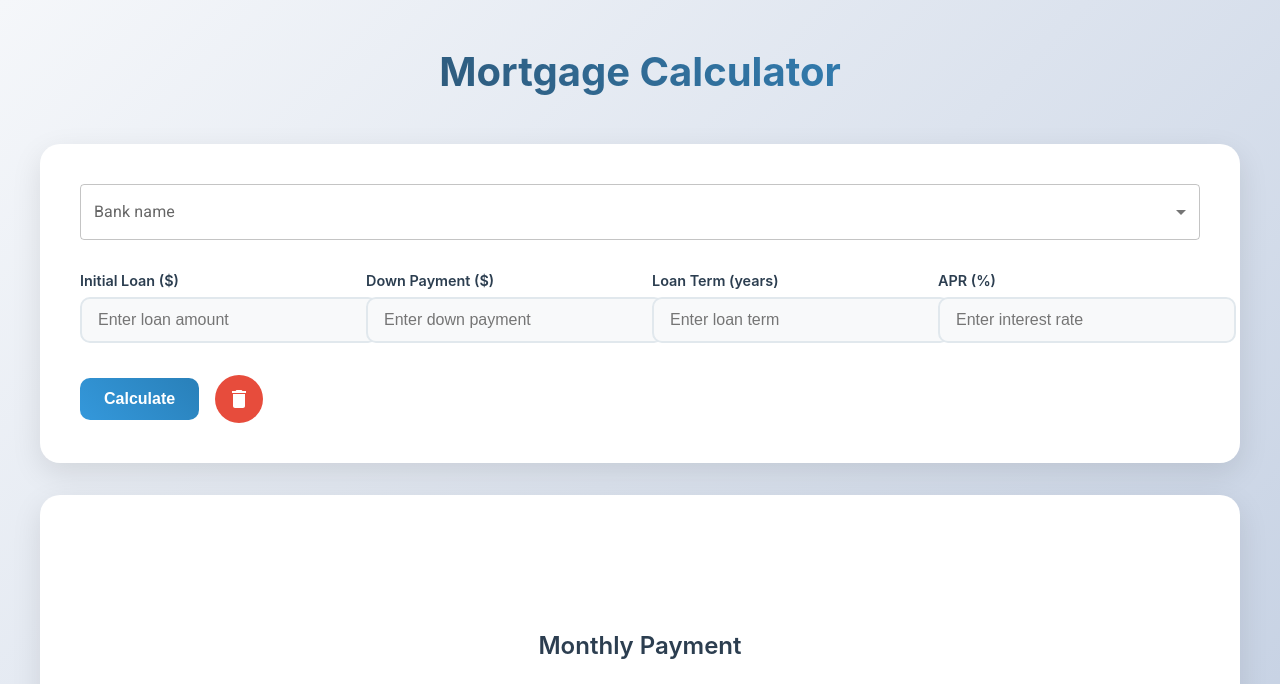
Test: Calc Component › shows validation error for missing required fields
Click the button "Calculate" at x=140, y=399, box [80,378,199,420]
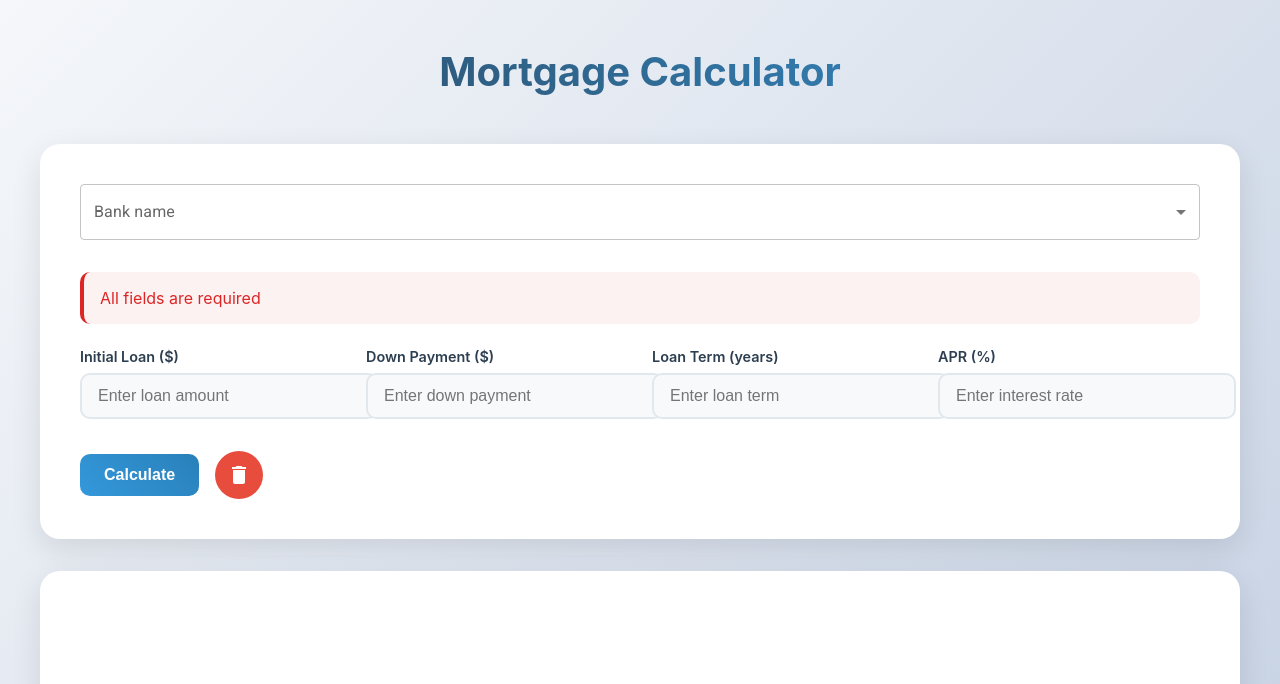
Check: the text "All fields are required" is shown, box [80,272,1200,324]
